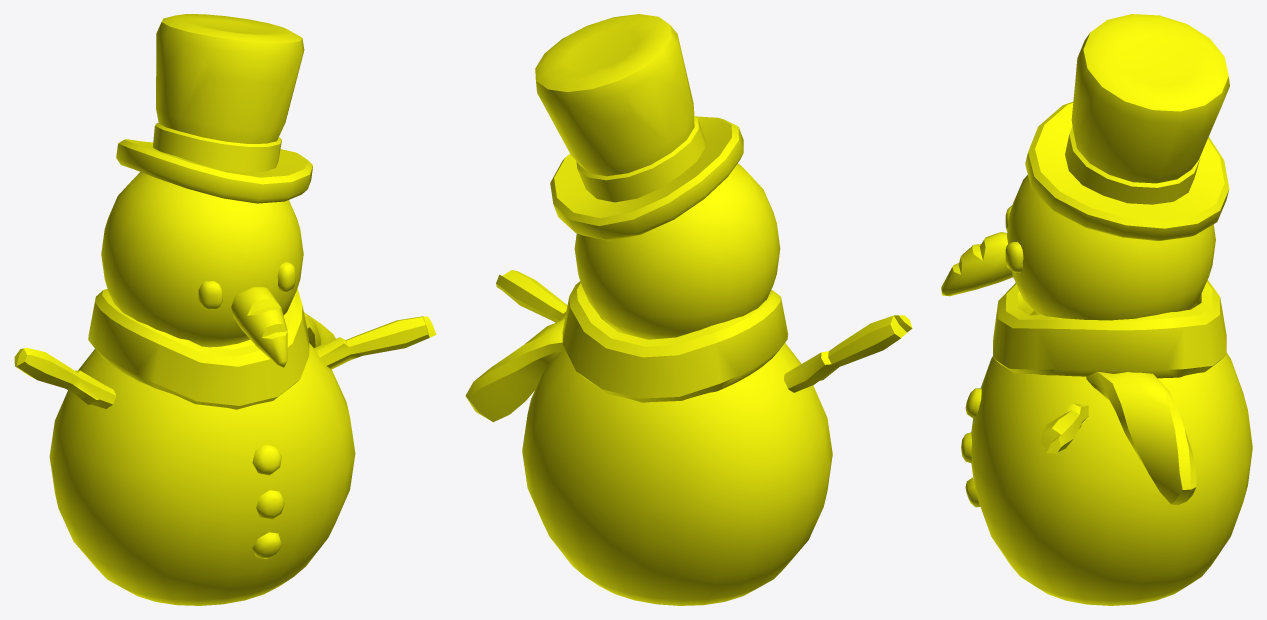
File: kaykit-snowman-b.glb
The picture shows the model from 3 angles, left to right: view 1: azimuth 30°, elevation 25°; view 2: azimuth 150°, elevation 25°; view 3: azimuth 270°, elevation 25°; orthographic projection. The views are drawn at different scales.
Visible parts, largest first — view 1: snowman_B; view 2: snowman_B; view 3: snowman_B.
Boxes of the visible parts, box(x1,y1,x2,y2) form: snowman_B: box(14, 14, 436, 605); snowman_B: box(465, 14, 912, 605); snowman_B: box(941, 14, 1252, 605).
Size of the model in its own units: 2.17 by 2.7 by 1.37.
